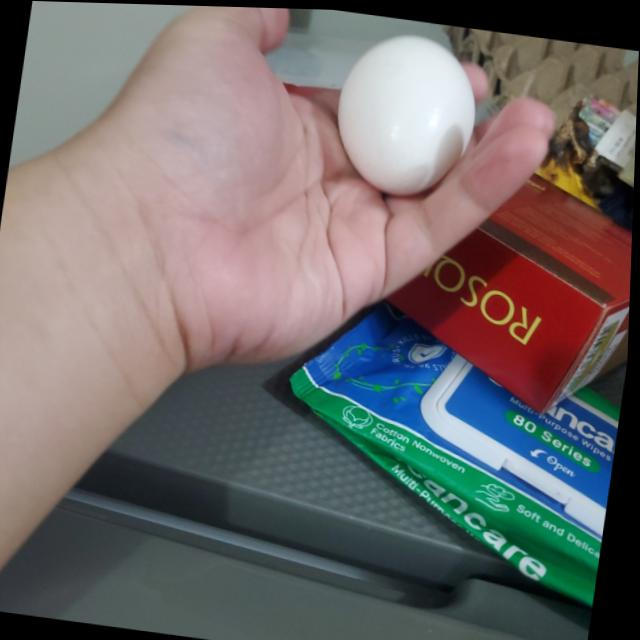egg: (329, 25, 485, 198)
